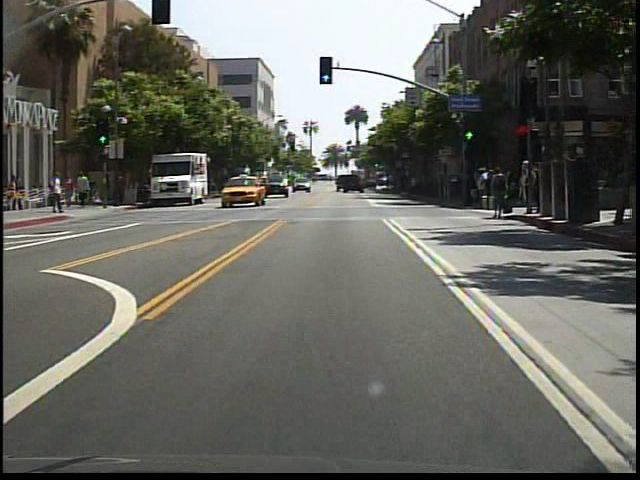person: (487, 165, 511, 224), (51, 168, 67, 216), (77, 168, 94, 209), (4, 174, 22, 212), (65, 174, 78, 208)
